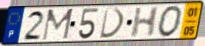2: (21, 9, 47, 41)
5: (77, 7, 101, 40)
D: (98, 7, 127, 40)
H: (129, 6, 161, 39)
M: (40, 7, 75, 42)
O: (157, 5, 184, 39)
